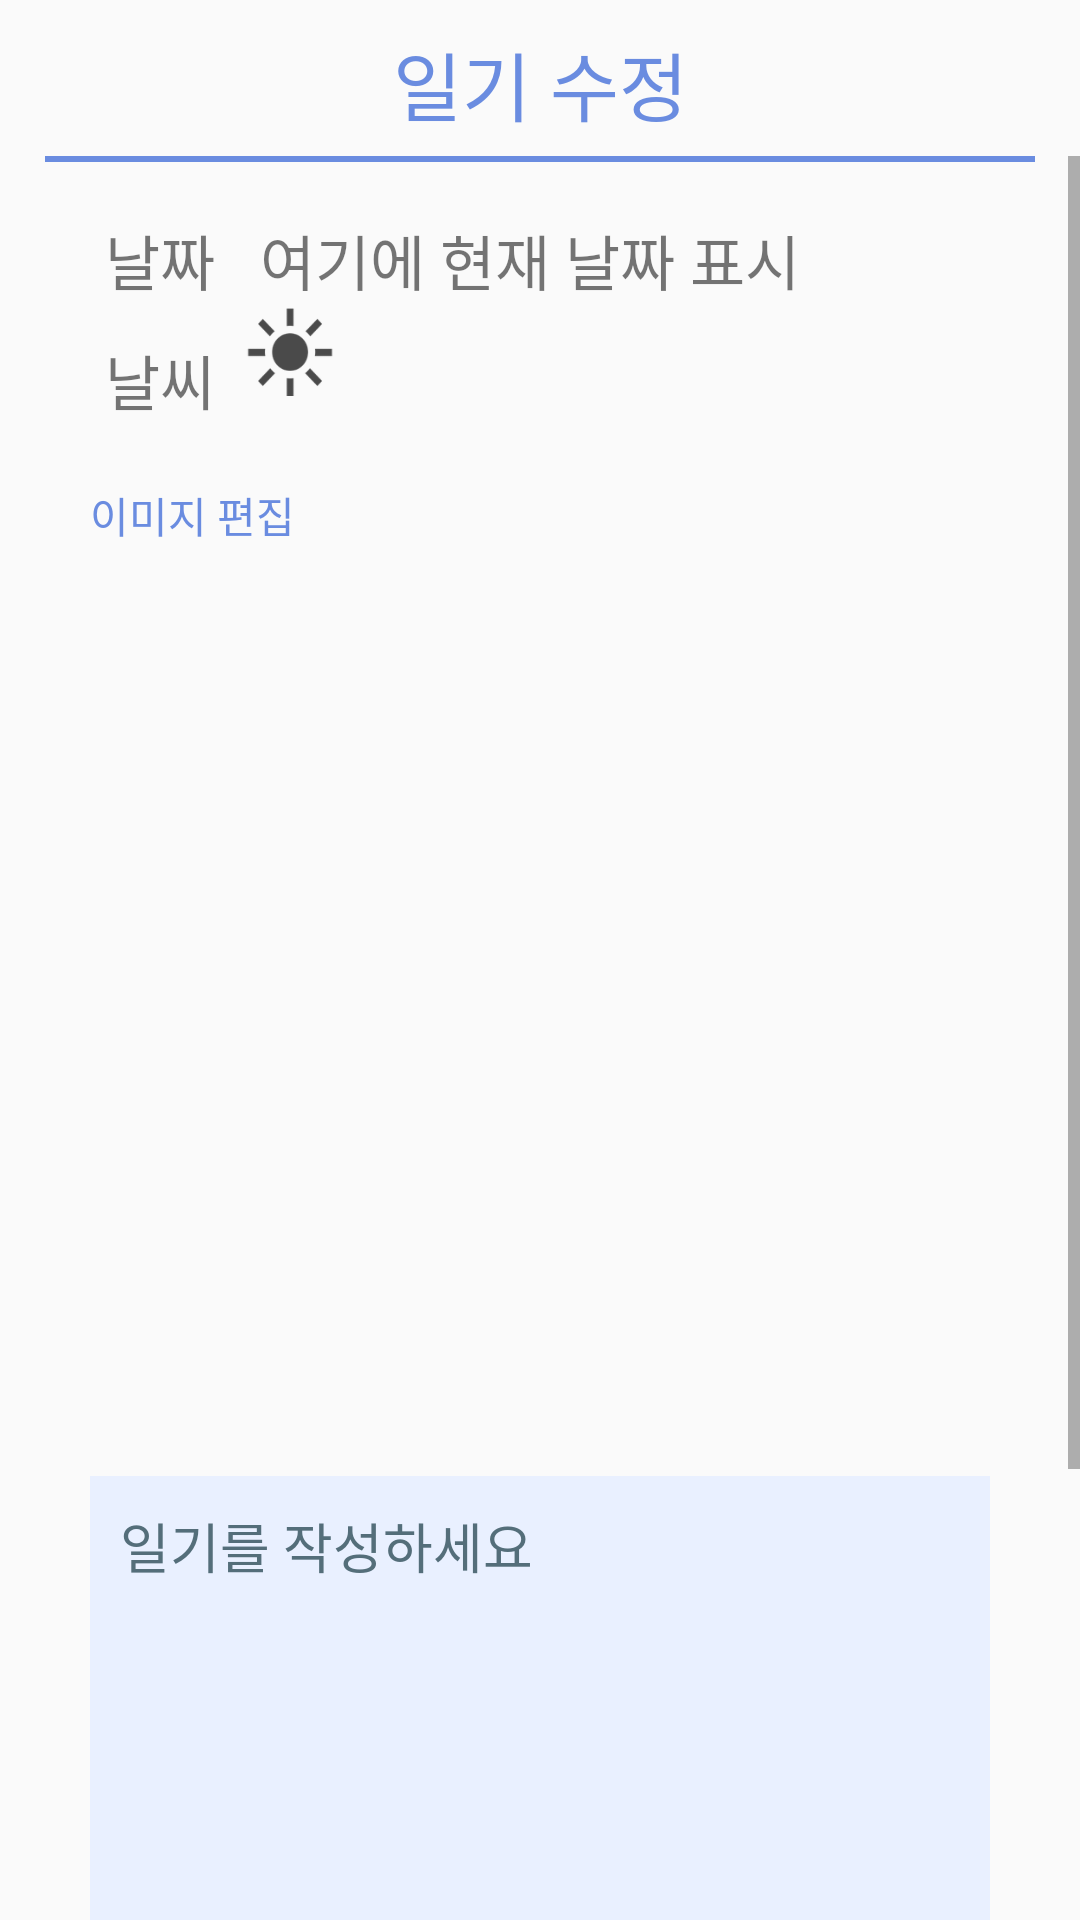

Icon click points for this 1080 x 1920 phone screenshot, format (x,y):
sunny: (290,352)
